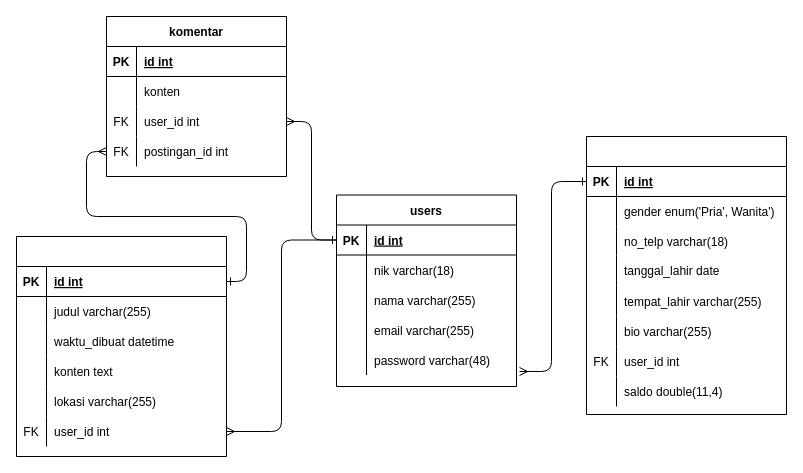
The diagram is 803 pixels wide and 473 high, and some of its shapes have lost their labels. Each missing label, with the box of its shape:
postingan: (16, 236, 226, 456)
profile: (586, 136, 786, 414)
